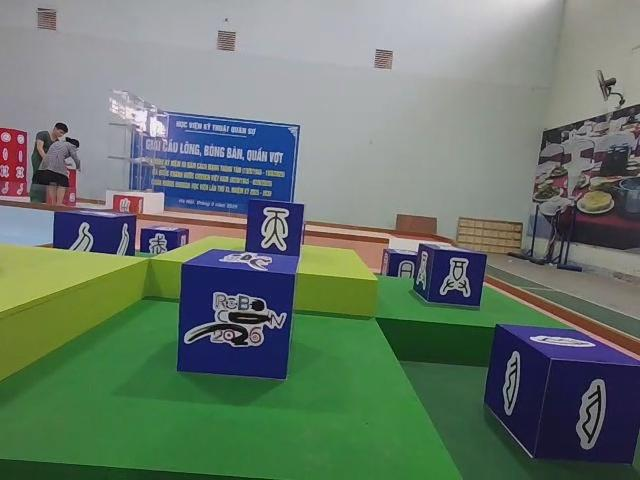R1 Blue: (177, 249, 297, 380)
R2 Fake Blue: (245, 199, 305, 259), (139, 225, 190, 254), (382, 248, 420, 280)
R2 Real Blue: (485, 325, 637, 466), (414, 242, 487, 309), (53, 209, 137, 257)
